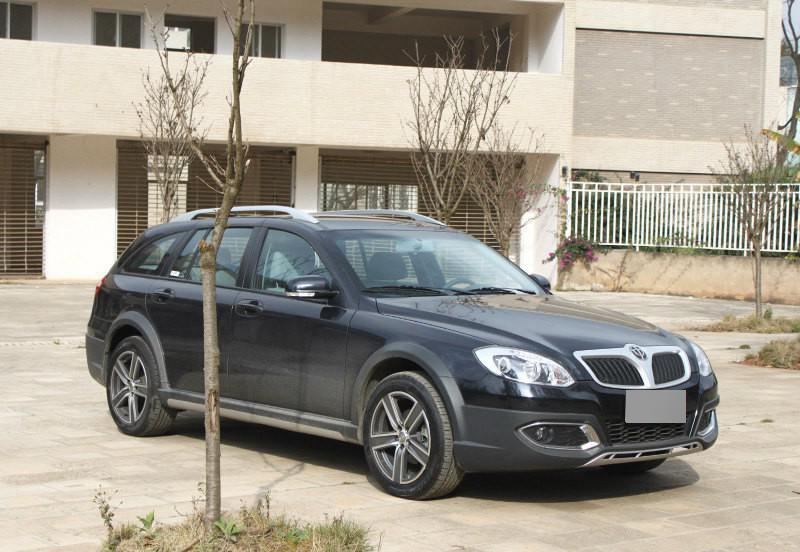Wagon: (85, 204, 720, 500)
